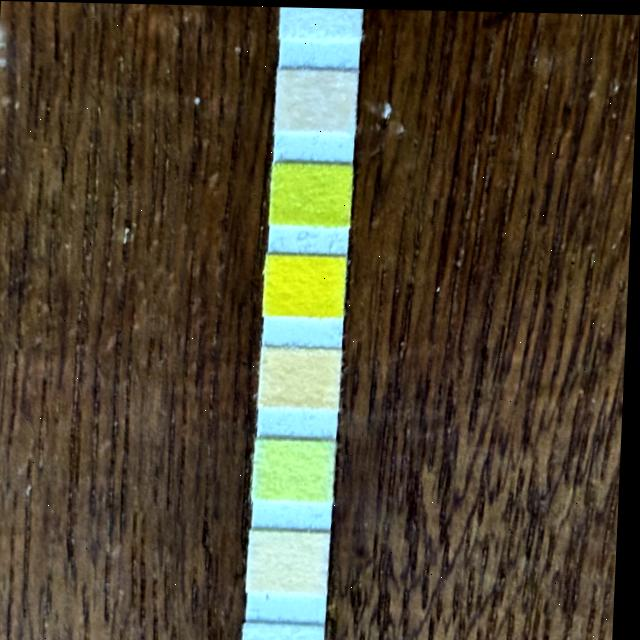Bilirubin: (282, 5, 359, 38)
Blood: (268, 253, 346, 315)
Ketone: (277, 68, 355, 129)
Nitrite: (251, 624, 327, 640)
Protein: (259, 439, 337, 500)
SpGravity: (274, 163, 352, 225)
Urobilinogen: (256, 530, 334, 592)
pH: (265, 345, 343, 407)
